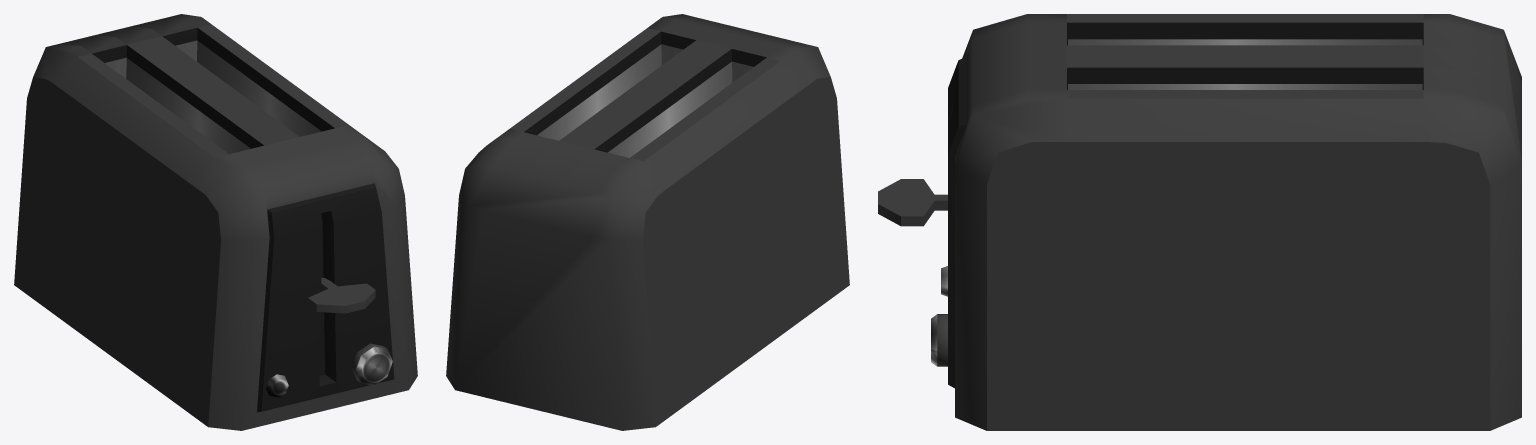
Rendered from Toaster_03.FBX.
3 views of the same model, side by side, from view 1: azimuth 30°, elevation 25°; view 2: azimuth 150°, elevation 25°; view 3: azimuth 270°, elevation 25° (orthographic). The views are drawn at different scales.
Visible parts, largest first — view 1: Toaster; view 2: Toaster; view 3: Toaster.
Part boxes in pixels (x1,y1,x2,y2): Toaster: (14, 14, 417, 430); Toaster: (446, 14, 849, 430); Toaster: (878, 14, 1521, 430).
Bounding box in the file's own units: 41.55 × 45 × 85.19.
